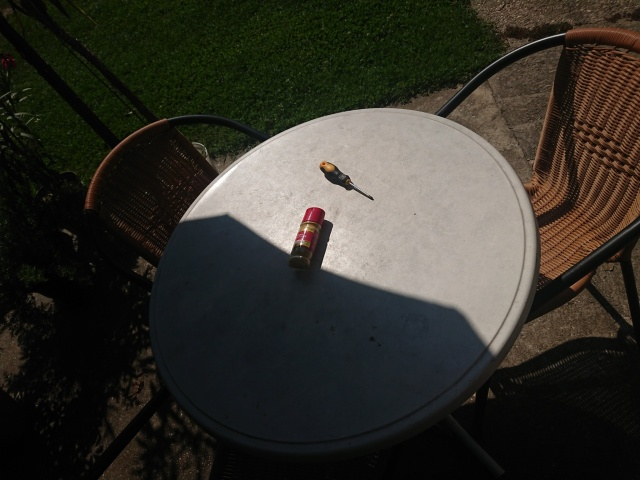Kotanyi Curry Spices Mix 70g: (287, 205, 327, 271)
